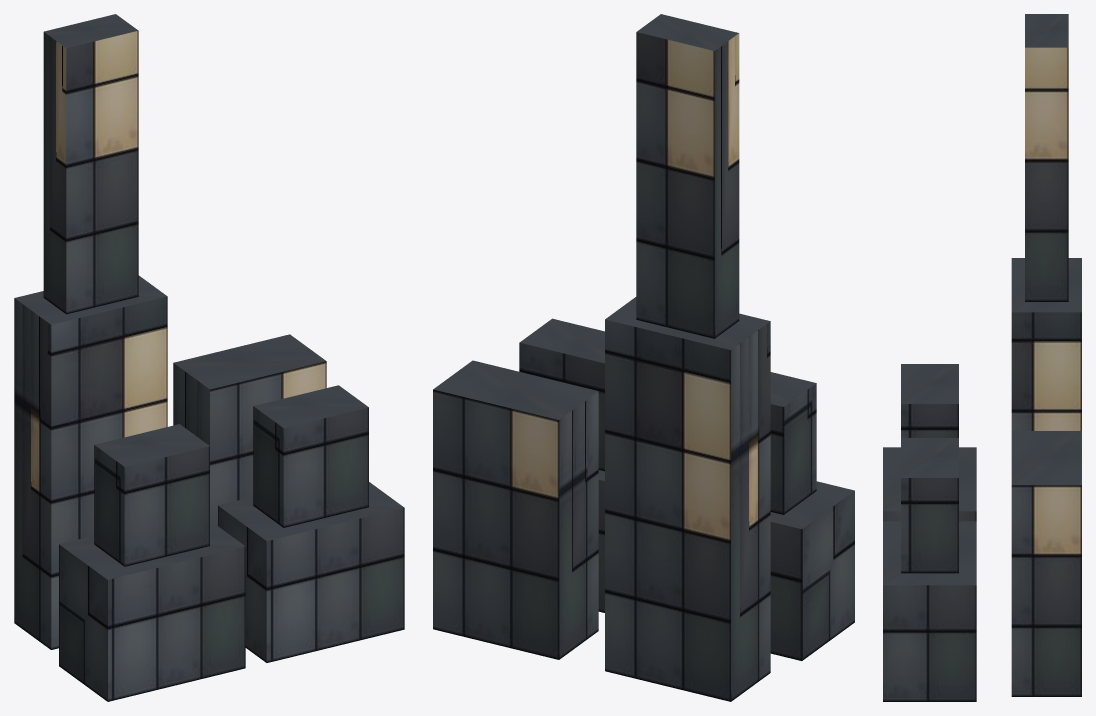
Rendered from block_00.obj.
3 renders of one model, left to right at view 1: azimuth 30°, elevation 25°; view 2: azimuth 150°, elevation 25°; view 3: azimuth 270°, elevation 25°, orthographic. The views are drawn at different scales.
Visible parts, largest first — view 1: b0, b1, b3, b2; view 2: b0, b2, b1, b3; view 3: b0, b3, b2, b1.
Boxes of the visible parts, x1,y1,x2,y2 form: b0: (14,14,167,649); b1: (59,424,245,701); b3: (218,385,404,662); b2: (173,334,326,525); b0: (605,14,770,701); b2: (433,360,598,659); b1: (770,372,854,660); b3: (519,318,604,612); b0: (1011,14,1081,430); b3: (883,438,976,701); b2: (1011,431,1081,696); b1: (883,364,976,521).
Bounding box in the file's own units: 4.2 × 8 × 2.55.
